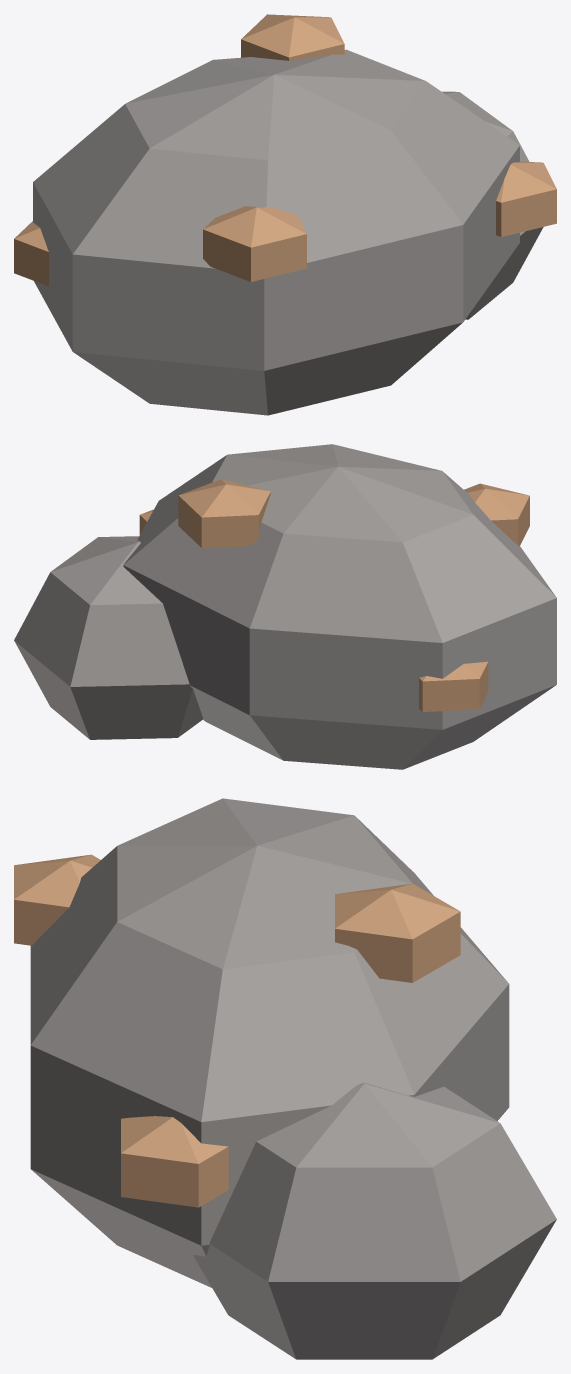
The model's file is minerio_de_ferro.glb.
The picture shows the model from 3 angles, top to bottom: view 1: azimuth 30°, elevation 25°; view 2: azimuth 150°, elevation 25°; view 3: azimuth 270°, elevation 25°; orthographic projection. The views are drawn at different scales.
Visible parts, largest first — view 1: Sphere; view 2: Sphere; view 3: Sphere.
Boxes of the visible parts, bbox=[...] form: Sphere: bbox=[14, 14, 556, 415]; Sphere: bbox=[14, 444, 556, 769]; Sphere: bbox=[14, 798, 556, 1359].
Bounding box in the file's own units: 0.2778 × 0.1655 × 0.203.
